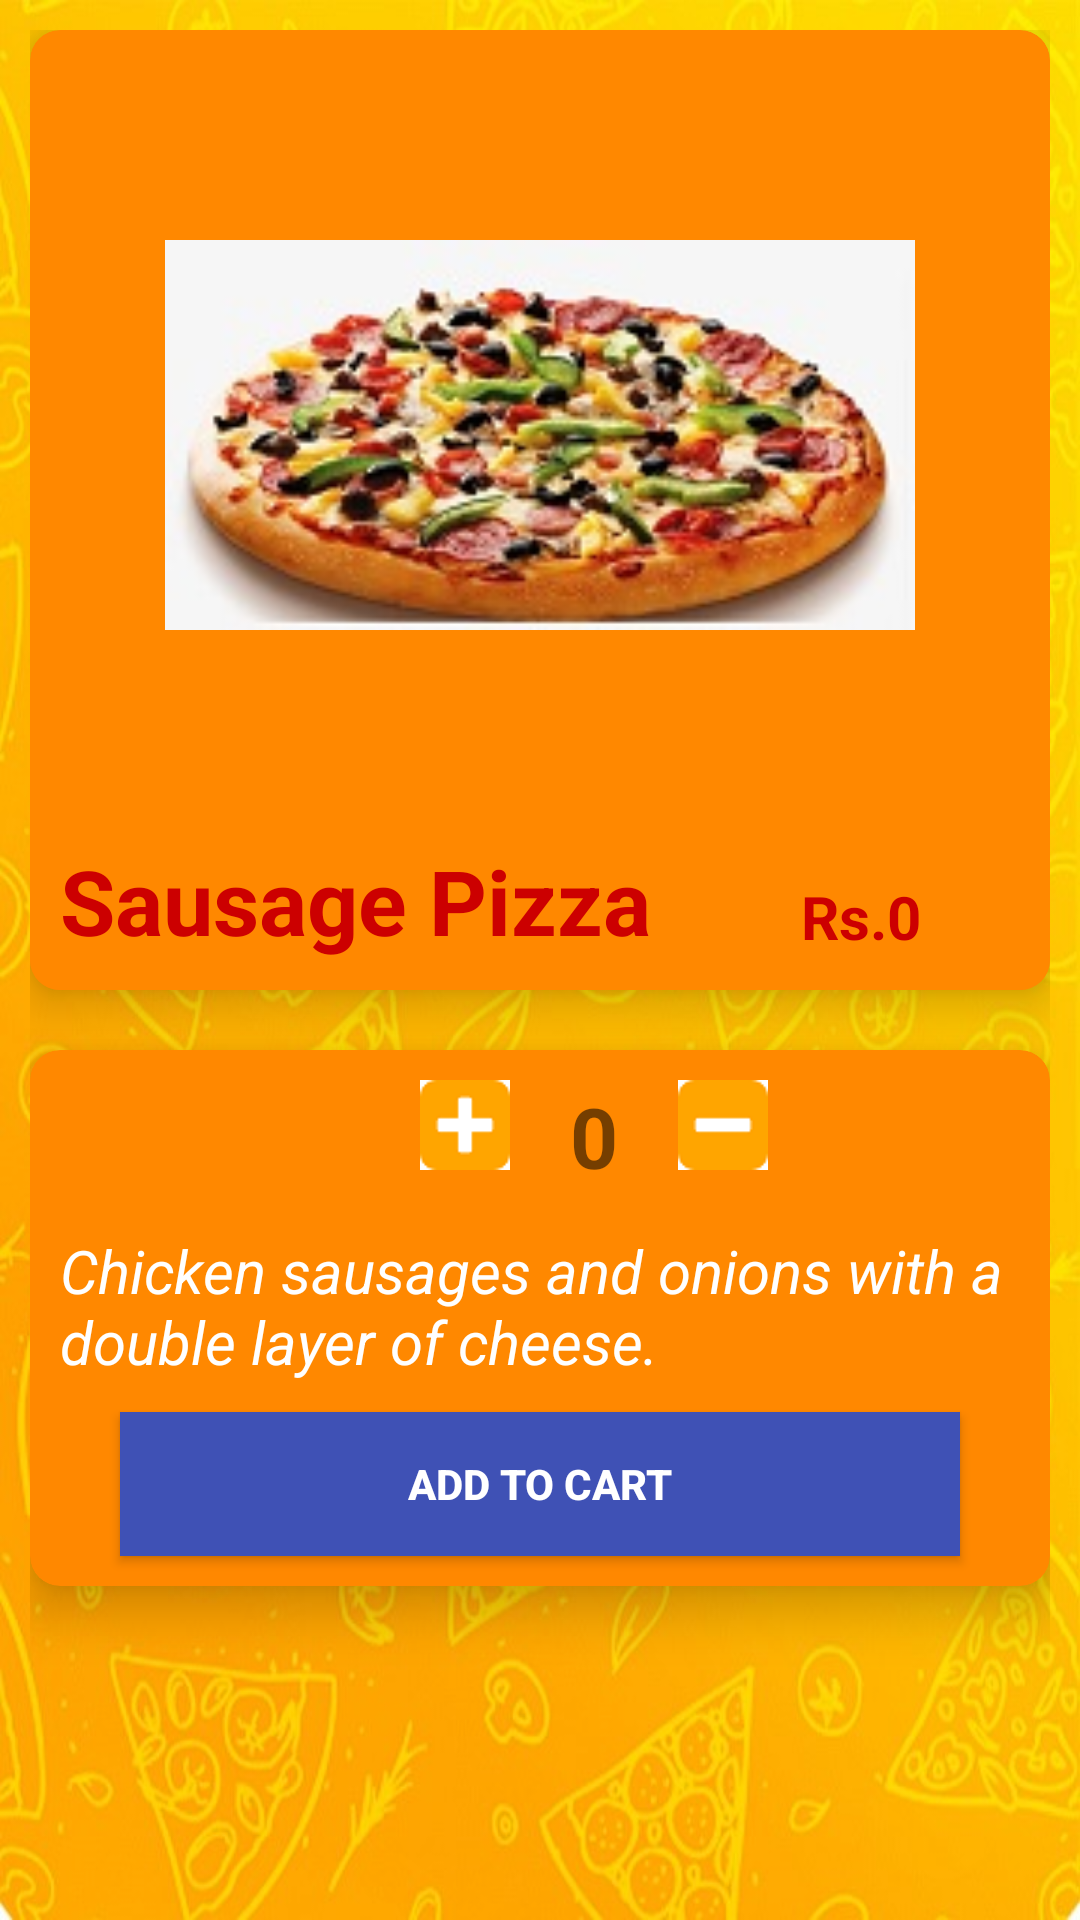

Where icons sit on this 1080 × 1920 app screen, as (x1, y1, x2, y2):
minus: (678, 1080, 768, 1170)
plus: (420, 1080, 510, 1170)
